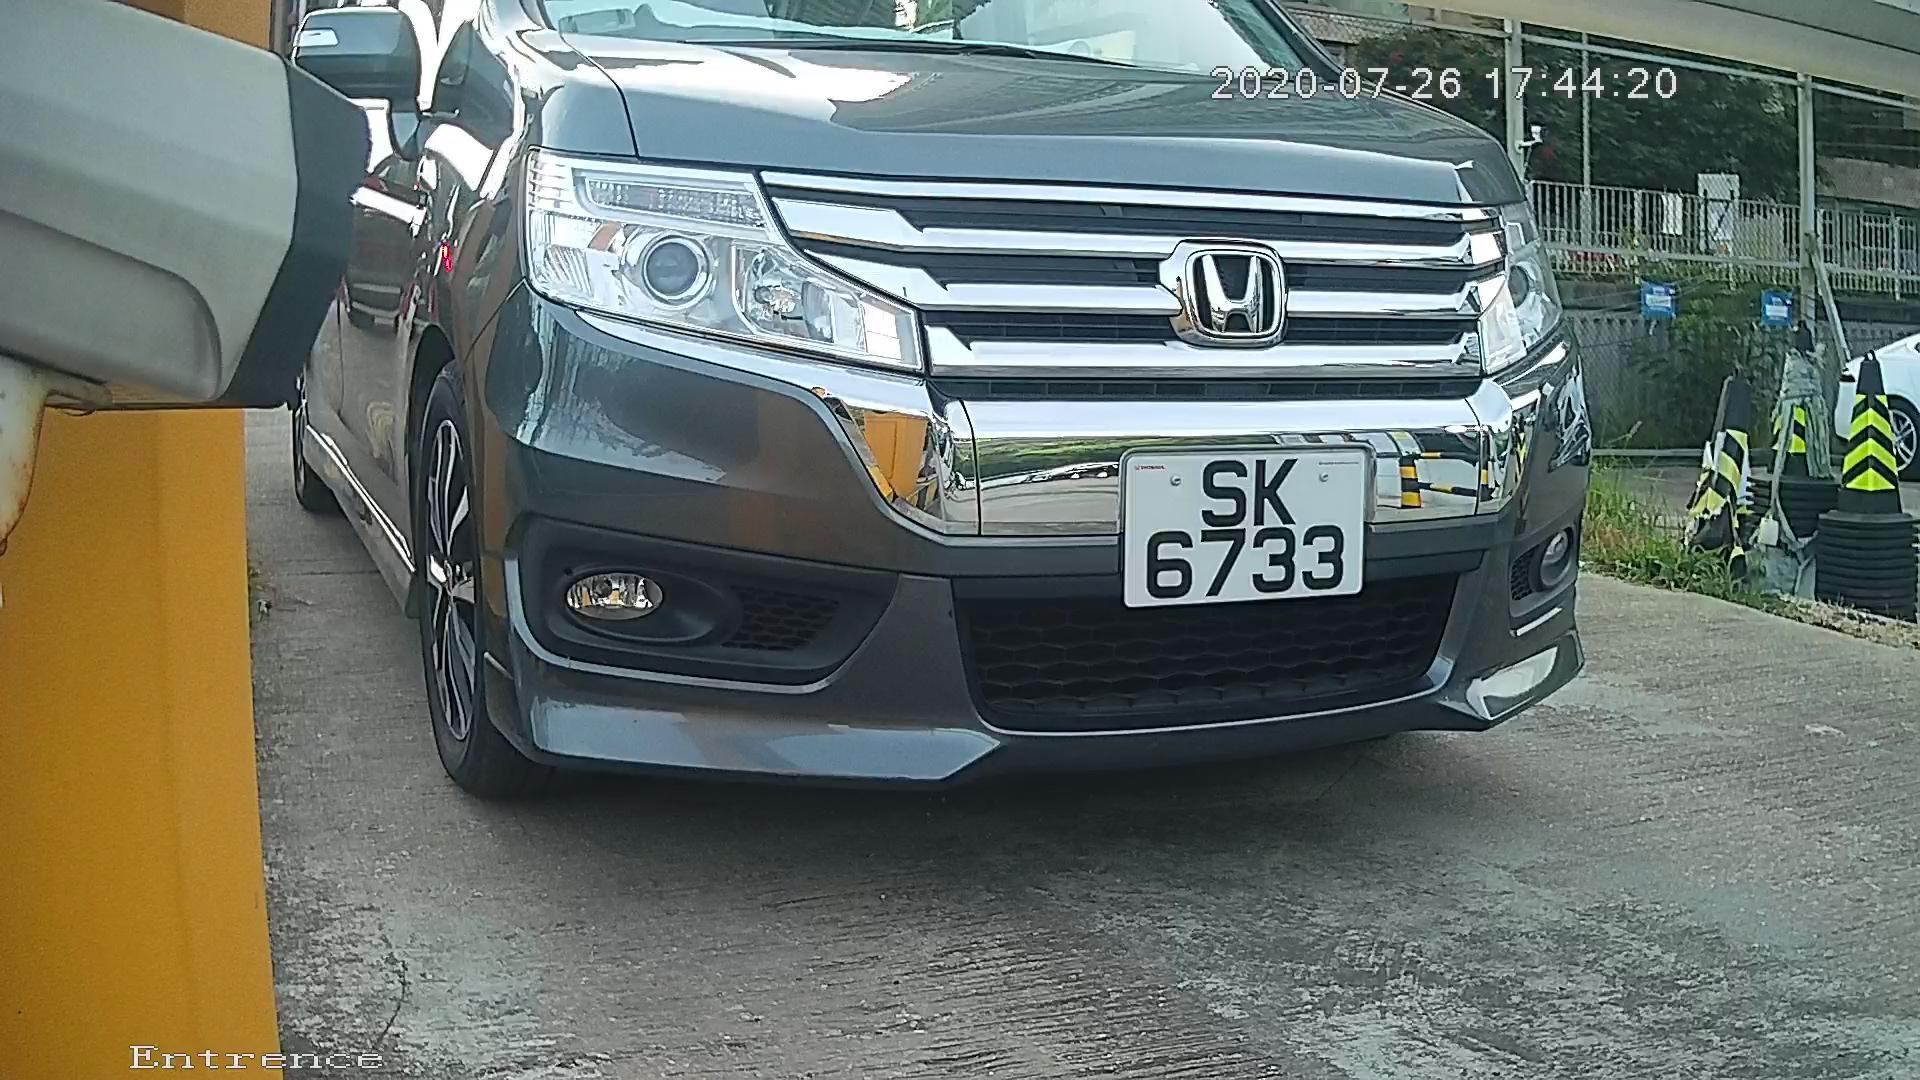privatecar: (282, 3, 1646, 843)
